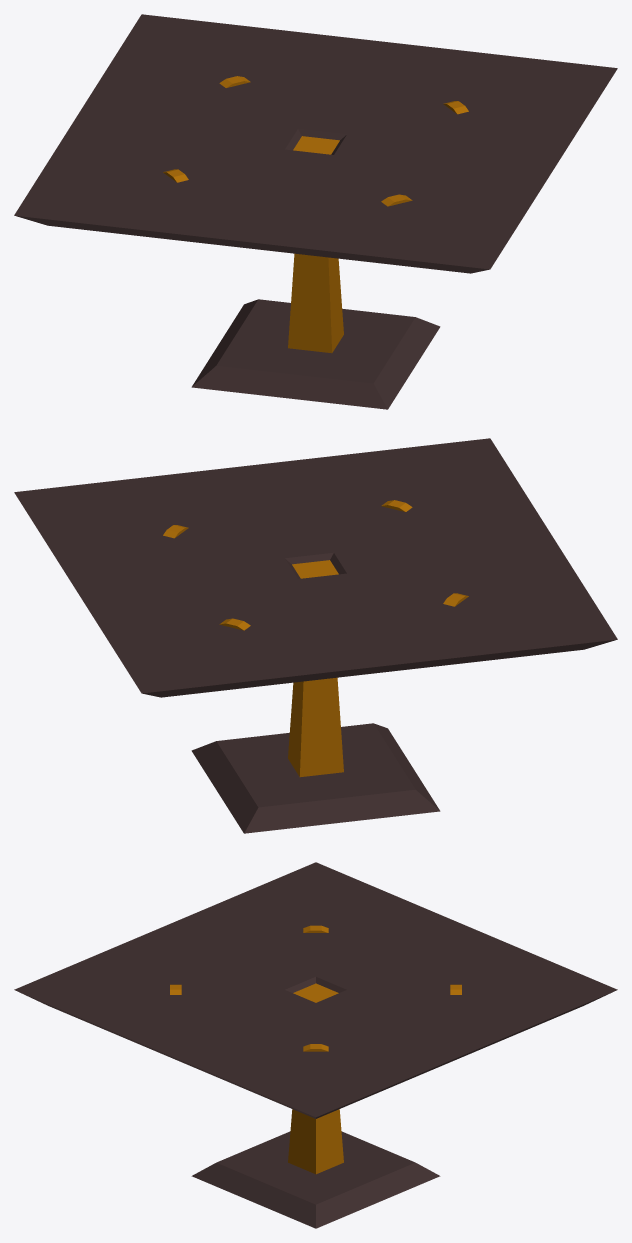
The model's file is Table.fbx.
3 renders of one model, top to bottom at view 1: azimuth 30°, elevation 25°; view 2: azimuth 150°, elevation 25°; view 3: azimuth 270°, elevation 25°, orthographic. The views are drawn at different scales.
Parts seen in each view (by area): view 1: Table; view 2: Table; view 3: Table.
Boxes of the visible parts, x1,y1,x2,y2 form: Table: (14, 14, 617, 409); Table: (14, 438, 617, 833); Table: (14, 862, 617, 1228).
Size of the model in its own units: 283 by 97.63 by 283.
